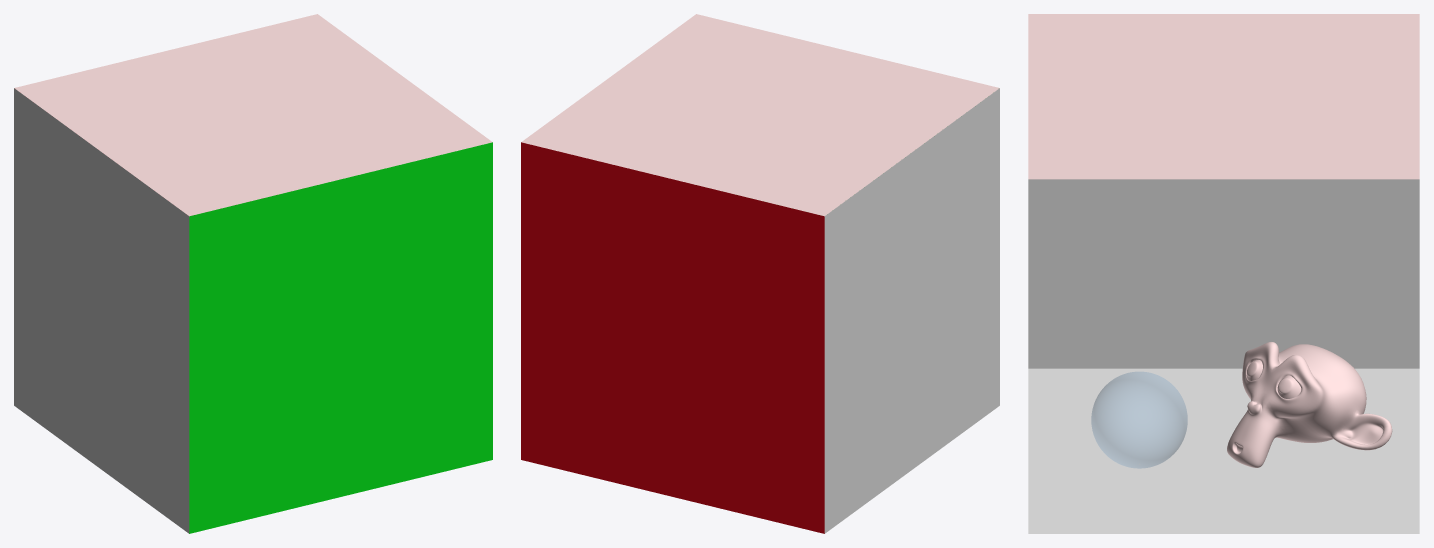
File: customCornell.glb
3 renders of one model, left to right at view 1: azimuth 30°, elevation 25°; view 2: azimuth 150°, elevation 25°; view 3: azimuth 270°, elevation 25°, orthographic. The views are drawn at different scales.
Parts seen in each view (by area): view 1: Plane.003, Plane.004, Plane.005; view 2: Plane.002, Plane.004, Plane.005; view 3: Plane.004, Plane.005, Plane, Suzanne, Sphere.
Part boxes in pixels (x1,y1,x2,y2): Plane.003: (189, 142, 492, 533); Plane.004: (14, 88, 189, 533); Plane.005: (14, 14, 492, 216); Plane.002: (521, 142, 824, 533); Plane.004: (824, 88, 999, 533); Plane.005: (521, 14, 999, 216); Plane.004: (1028, 179, 1419, 368); Plane.005: (1028, 14, 1419, 179); Plane: (1028, 368, 1419, 533); Suzanne: (1227, 342, 1392, 467); Sphere: (1091, 372, 1187, 468).
Bounding box in the file's own units: 4 × 4 × 4.
